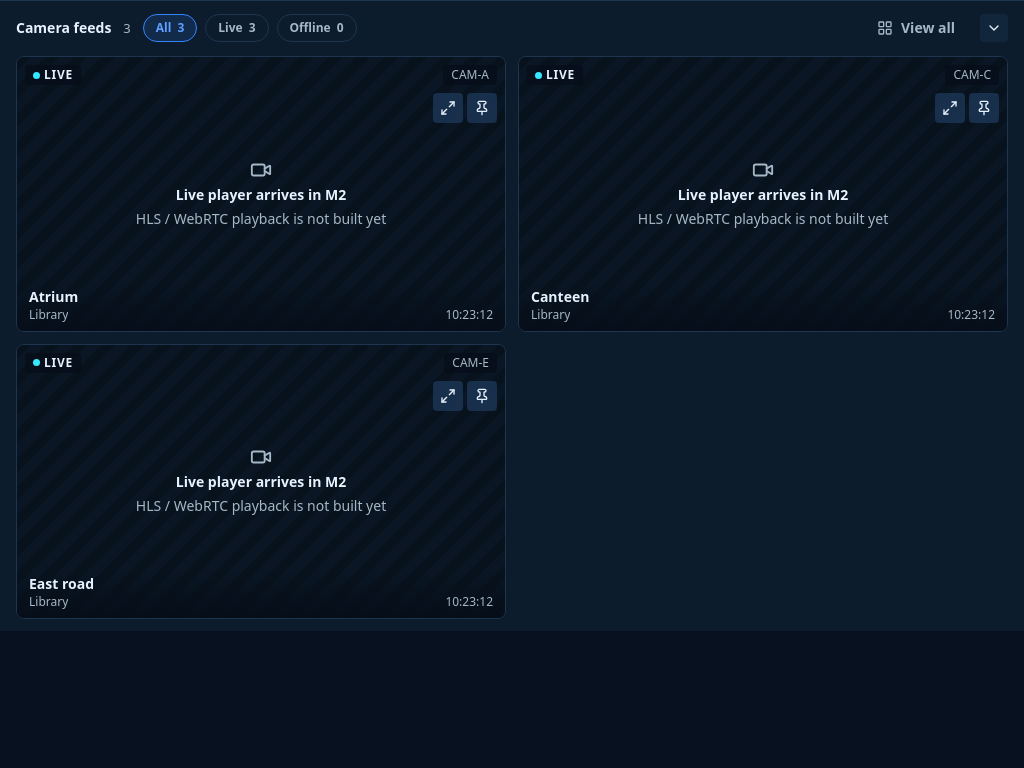
CameraStrip › header, filter and collapse › the filter › says so for the offline kind too
This screenshot has width=1024, height=768.
Click the tab "Offline 0".
click(316, 28)  # box left=276, top=14, right=356, bottom=42
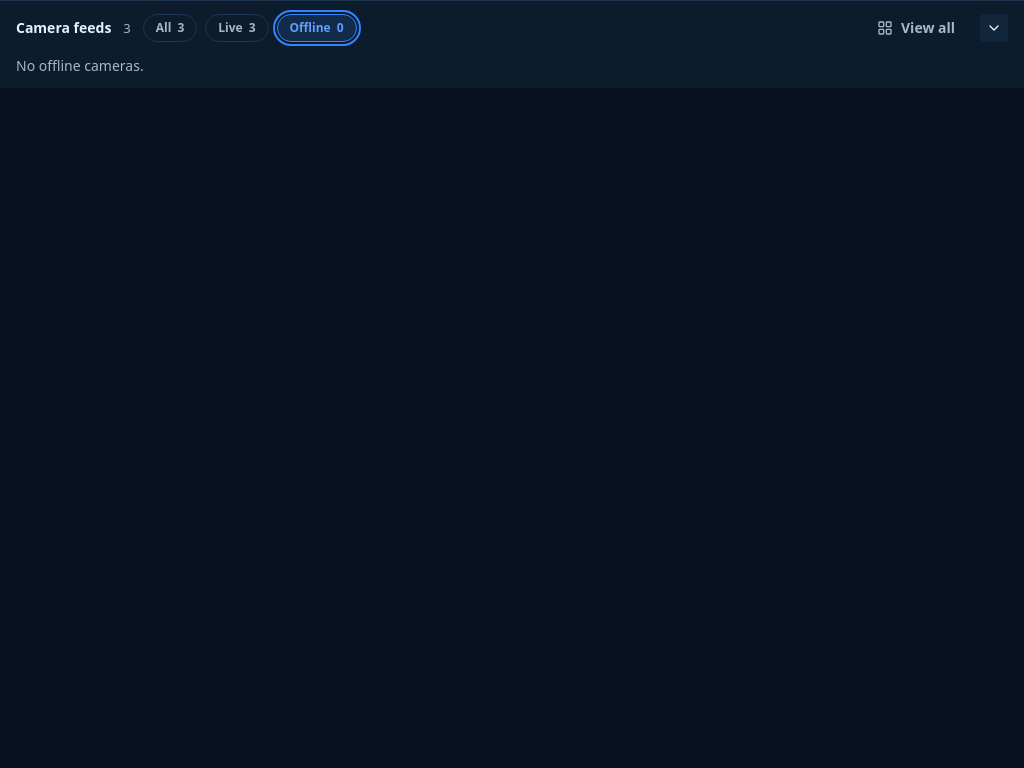
Check: the text "No offline cameras." is shown, box left=16, top=56, right=144, bottom=75
